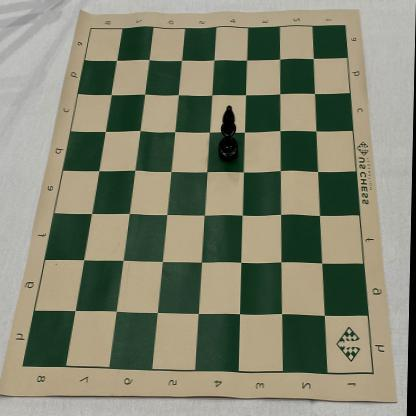black-bishop: (218, 105, 240, 162)
